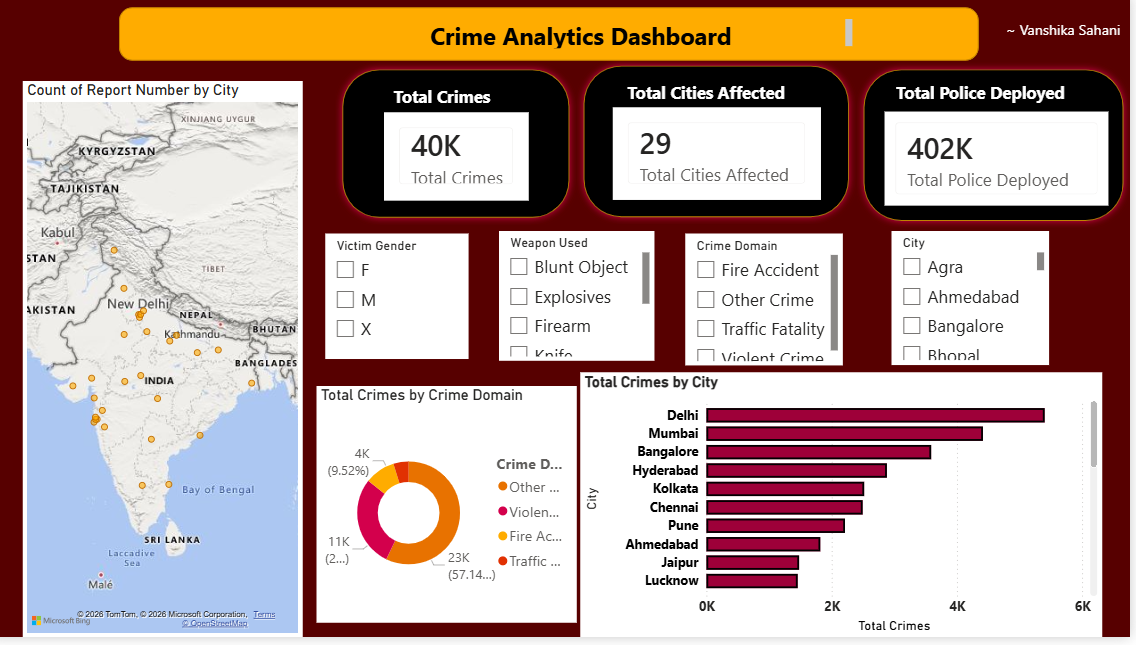

The dashboard page shown, as its layout file describes it:
{"tool":"powerbi","page":{"name":"Page 1","canvas":[1280,720],"ordinal":0},"visuals":[{"type":"shape","box":[388.6,73.9,270.6,182.4],"z":0},{"type":"shape","box":[972.7,73.9,307.5,186],"z":1000},{"type":"shape","box":[659.2,70.3,313.5,186],"z":2000},{"type":"textbox","box":[448.2,95.4,178.8,59.6],"z":3000},{"type":"textbox","box":[710.4,90.6,245.6,47.7],"z":4000},{"type":"textbox","box":[1012,90.6,237.2,45.3],"z":5000},{"type":"clusteredBarChart","fields":{"Y":["Crime.Total Crimes"],"Category":["Crime.City"]},"box":[664,422,585.3,298],"z":6000},{"type":"donutChart","fields":{"Category":["Crime.Crime Domain"],"Y":["Crime.Total Crimes"]},"box":[367.1,437.5,292,265.8],"z":7000},{"type":"slicer","fields":{"Values":["Crime.City"]},"box":[1012,263.4,176.4,150.2],"z":8000},{"type":"slicer","fields":{"Values":["Crime.Crime Domain"]},"box":[780.8,265.8,176.4,147.8],"z":9000},{"type":"slicer","fields":{"Values":["Crime.Weapon Used"]},"box":[572.2,263.4,174,145.4],"z":10000},{"type":"map","fields":{"Category":["Crime.City"]},"box":[38.1,95.4,313.5,624.6],"z":11000},{"type":"shape","box":[145.2,12.7,964.5,59.9],"z":12000},{"type":"textbox","box":[488.7,21.5,484,42.9],"z":13000},{"type":"cardVisual","fields":{"Data":["Crime.Total Crimes"]},"box":[443.4,129.9,162.1,98.9],"z":14000},{"type":"cardVisual","fields":{"Data":["Crime.Total Cities Affected"]},"box":[699.7,125.2,233.6,103.7],"z":15000},{"type":"cardVisual","fields":{"Data":["Crime.Total Police Deployed"]},"box":[1000.1,125.2,261.1,115.6],"z":16000},{"type":"slicer","fields":{"Values":["Crime.Victim Gender"]},"box":[376.7,265.8,160.9,140.7],"z":17000},{"type":"textbox","box":[1131.2,21.5,149,165.7],"z":17001}]}

Visuals, with their boxes in screenshot pixels (x1, y1, x2, y2), scaled from the page's 1280x720 canvas onto the 1136x645 screenshot:
shape: x1=345, y1=66, x2=585, y2=230
shape: x1=863, y1=66, x2=1135, y2=233
shape: x1=585, y1=63, x2=863, y2=230
textbox: x1=398, y1=85, x2=556, y2=139
textbox: x1=630, y1=81, x2=848, y2=124
textbox: x1=898, y1=81, x2=1109, y2=122
clusteredBarChart - Crime.Total Crimes x Crime.City: x1=589, y1=378, x2=1109, y2=644
donutChart - Crime.Crime Domain x Crime.Total Crimes: x1=326, y1=392, x2=585, y2=630
slicer - Crime.City: x1=898, y1=236, x2=1055, y2=371
slicer - Crime.Crime Domain: x1=693, y1=238, x2=850, y2=371
slicer - Crime.Weapon Used: x1=508, y1=236, x2=662, y2=366
map - Crime.City: x1=34, y1=85, x2=312, y2=644
shape: x1=129, y1=11, x2=985, y2=65
textbox: x1=434, y1=19, x2=863, y2=58
cardVisual - Crime.Total Crimes: x1=394, y1=116, x2=537, y2=205
cardVisual - Crime.Total Cities Affected: x1=621, y1=112, x2=828, y2=205
cardVisual - Crime.Total Police Deployed: x1=888, y1=112, x2=1119, y2=216
slicer - Crime.Victim Gender: x1=334, y1=238, x2=477, y2=364
textbox: x1=1004, y1=19, x2=1135, y2=168
